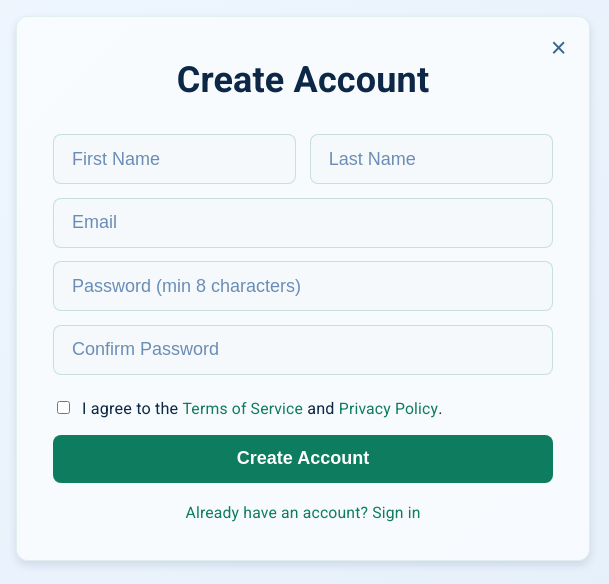
Test case: SignupPanel › shows success message after successful signup
Type "John" into the field with placeholder "First Name" at [175, 159], box [53, 134, 296, 184]
Type "Doe" into the field with placeholder "Last Name" at [431, 159], box [310, 134, 553, 184]
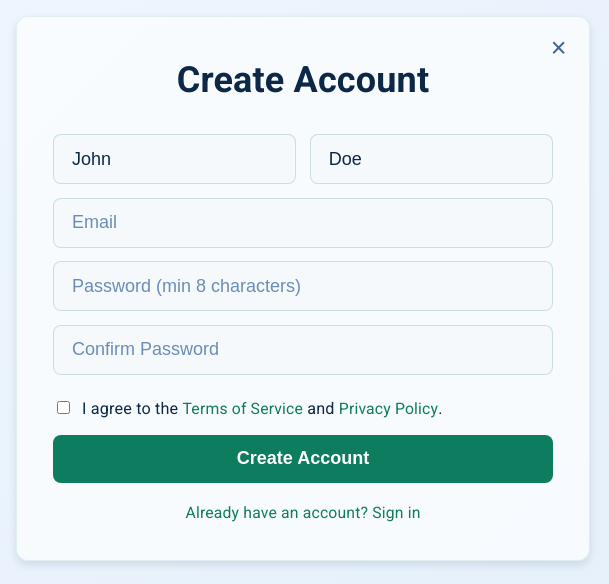
Type "john@test.com" into the field with placeholder "Email" at [303, 222], box [53, 198, 553, 248]
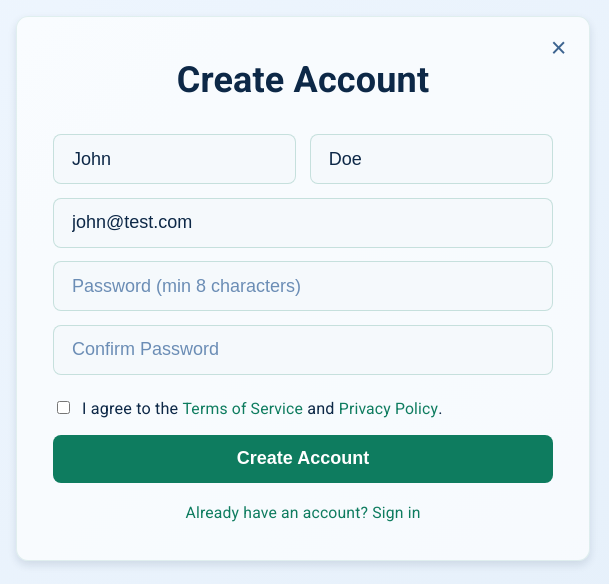
Type "password123" into the password field with placeholder "Password (min 8 characters)" at [303, 286], box [53, 261, 553, 311]
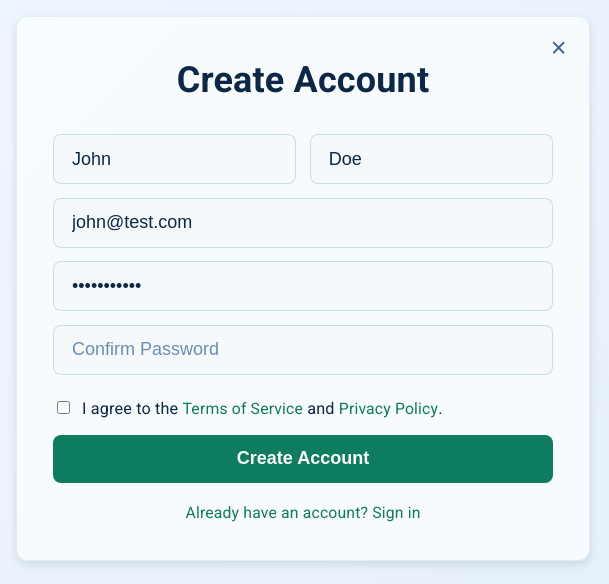
Type "password123" into the password field with placeholder "Confirm Password" at [303, 350], box [53, 324, 553, 374]
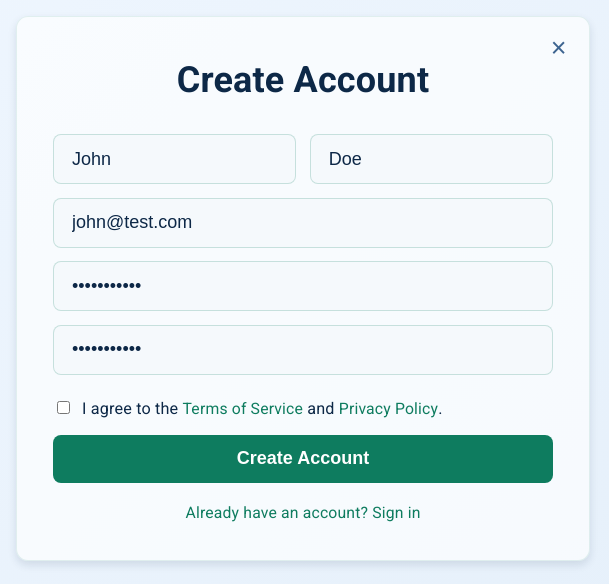
Click the checkbox named "Accept Terms of Service" at [64, 407], box [57, 401, 70, 414]
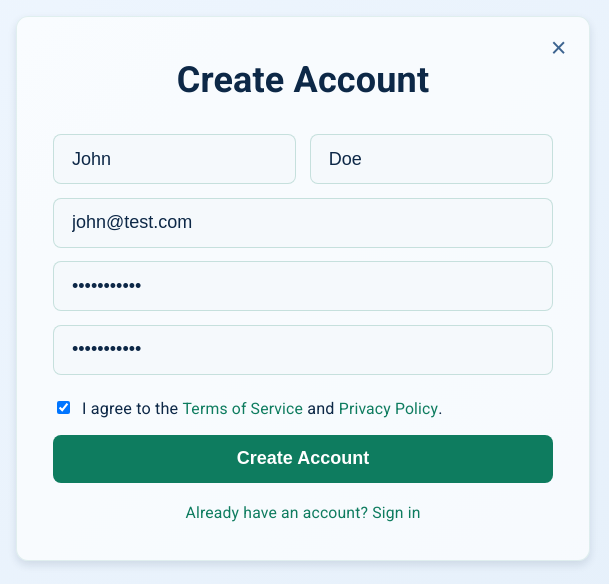
Click the button "Create Account" at [303, 459], box [53, 435, 553, 483]
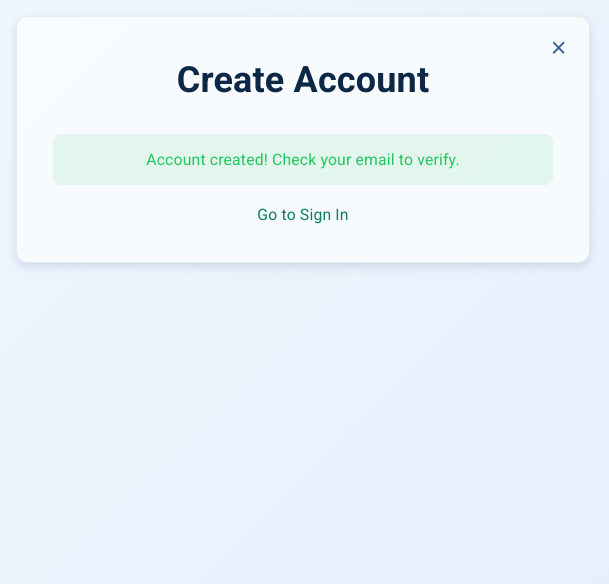
Expected: the text "Account created! Check your email to verify." is shown, [53, 134, 553, 185]
Expected: the link "Go to Sign In" is shown, [257, 203, 349, 226]
